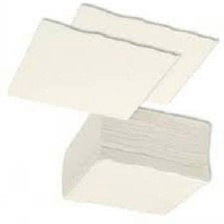tissue: (0, 0, 223, 125), (53, 99, 220, 221)
